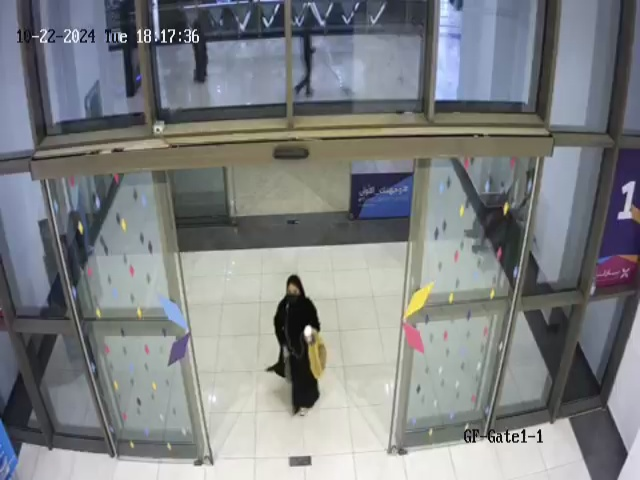female: (269, 275, 322, 417), (190, 25, 212, 87)
male: (296, 10, 323, 102)
